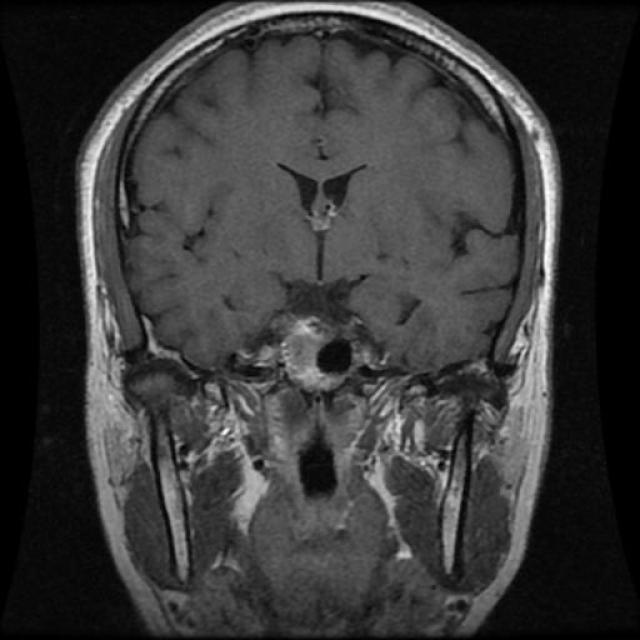pituitary: (268, 297, 369, 399)
